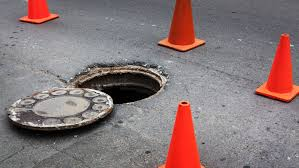Manhole-Open: (65, 56, 177, 109)
